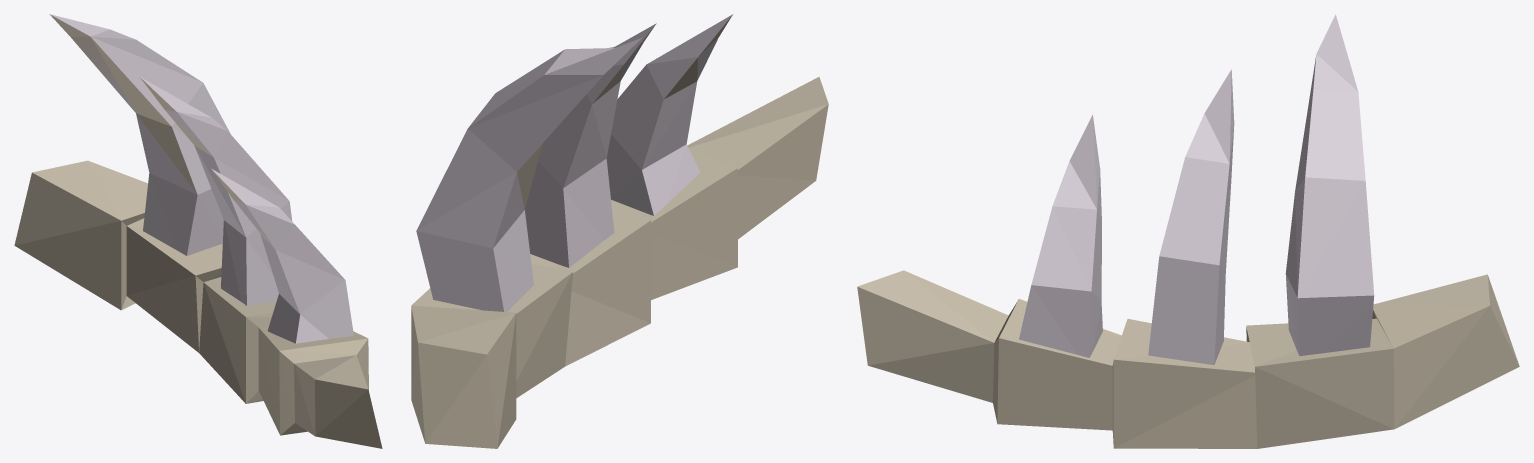
Rendered from Flat_Bone_05.fbx.
3 renders of one model, left to right at view 1: azimuth 30°, elevation 25°; view 2: azimuth 150°, elevation 25°; view 3: azimuth 270°, elevation 25°, orthographic. The views are drawn at different scales.
Visible parts, largest first — view 1: Bone_05; view 2: Bone_05; view 3: Bone_05.
Boxes of the visible parts, <box> form: Bone_05: <box>14,14,382,448</box>; Bone_05: <box>411,14,828,448</box>; Bone_05: <box>857,14,1519,448</box>.
Size of the model in its own units: 105 by 183 by 317.
